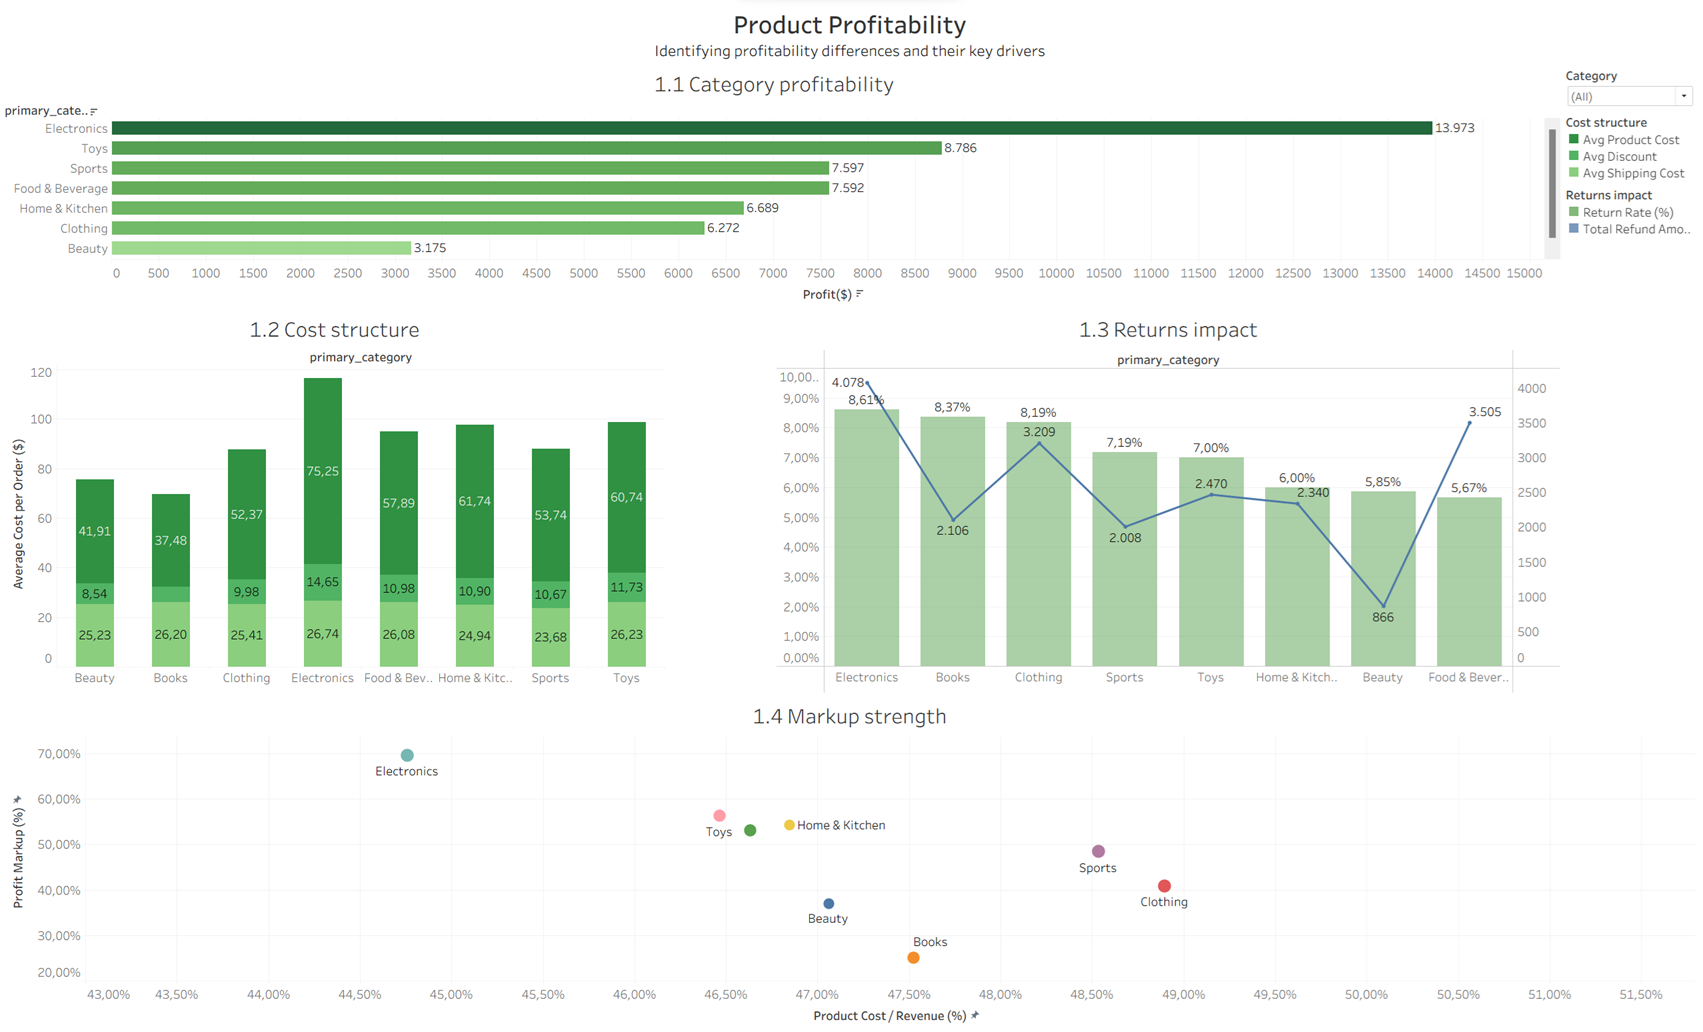

The page's visual inventory and layout, read from the dashboard file:
{"tool":"tableau","page":{"name":"Product Profitability","canvas":[1000,1000],"units":"permille","ordinal":5},"visuals":[{"type":"title","box":[3.6,5.7,992.9,63.7]},{"type":"worksheet","title":"1.1 Category profitability","mark":"Bar","rows":["primary_category"],"cols":["profit"],"box":[3.6,69.4,902.8,234.7]},{"type":"filter","title":"1.1 Category profitability","param":"[federated.1e2zac10m7axt21d1h3c01f4odkr].[none:primary_category:nk]","box":[906.4,69.4,90,50.1]},{"type":"legend","title":"1.2 Cost structure","param":"[federated.1e2zac10m7axt21d1h3c01f4odkr].[:Measure Names]","box":[906.4,119.5,90,78]},{"type":"legend","title":"1.3 Returns impact","param":"[federated.1e2zac10m7axt21d1h3c01f4odkr].[:Measure Names]","box":[906.4,197.4,90,60.1]},{"type":"worksheet","title":"1.2 Cost structure","mark":"Bar","cols":["primary_category"],"box":[3.6,304.1,446.6,370.2]},{"type":"worksheet","title":"1.3 Returns impact","mark":"Bar","rows":["Calculation_0162761120411652","refund_amount"],"cols":["primary_category"],"box":[450.2,304.1,456.3,370.2]},{"type":"worksheet","title":"1.4 Markup strength","mark":"Automatic","rows":["Calculation_0162761120768005"],"cols":["Calculation_0162761120059394"],"box":[3.6,674.3,992.9,320]}]}

Visuals, with their boxes on the dashboard's canvas, which has no fixed pixel size, in thousandths of its width and height (x1, y1, x2, y2). These are canvas units, not pixel positions in the 1703x1032 screenshot, which may show the page scaled, cropped or inside an application window:
title: (4, 6, 996, 69)
"1.1 Category profitability" worksheet (Bar marks): (4, 69, 906, 304)
"1.1 Category profitability" filter: (906, 69, 996, 120)
"1.2 Cost structure" legend: (906, 120, 996, 198)
"1.3 Returns impact" legend: (906, 197, 996, 258)
"1.2 Cost structure" worksheet (Bar marks): (4, 304, 450, 674)
"1.3 Returns impact" worksheet (Bar marks): (450, 304, 906, 674)
"1.4 Markup strength" worksheet: (4, 674, 996, 994)
